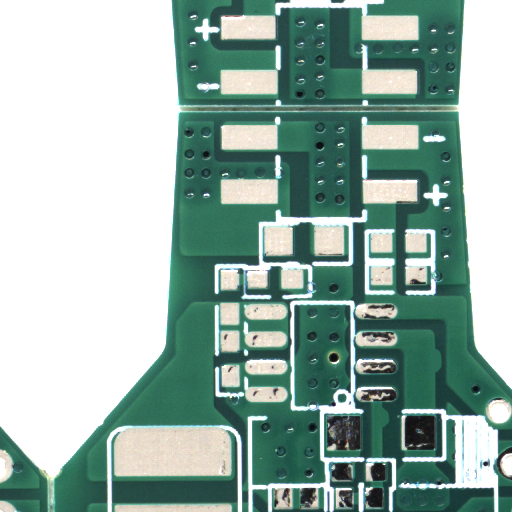Spur: (437, 360, 446, 384), (384, 418, 393, 440)
